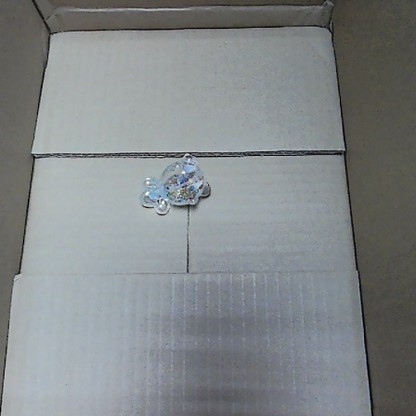whitefish: (140, 147, 211, 218)
